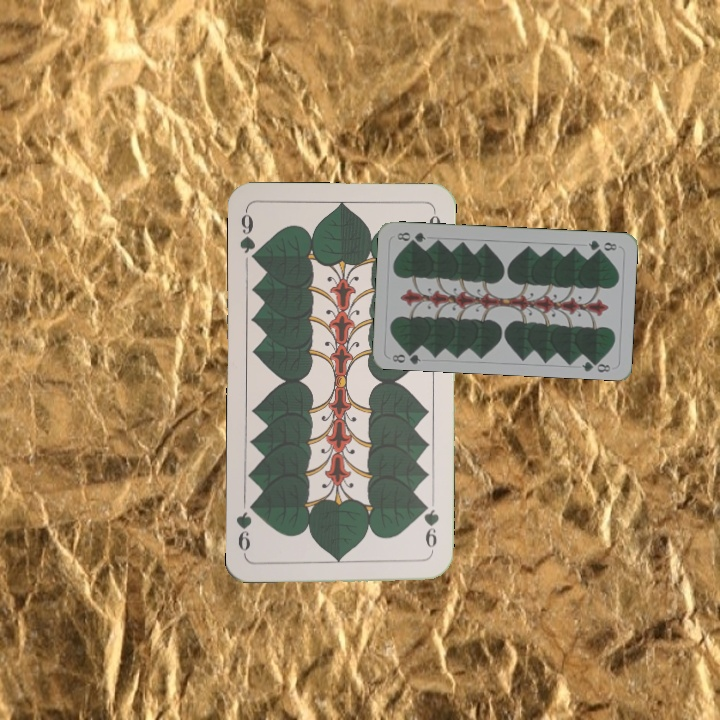G8: (388, 346, 423, 366), (584, 236, 619, 254)
G9: (235, 207, 261, 266), (419, 498, 442, 557)
